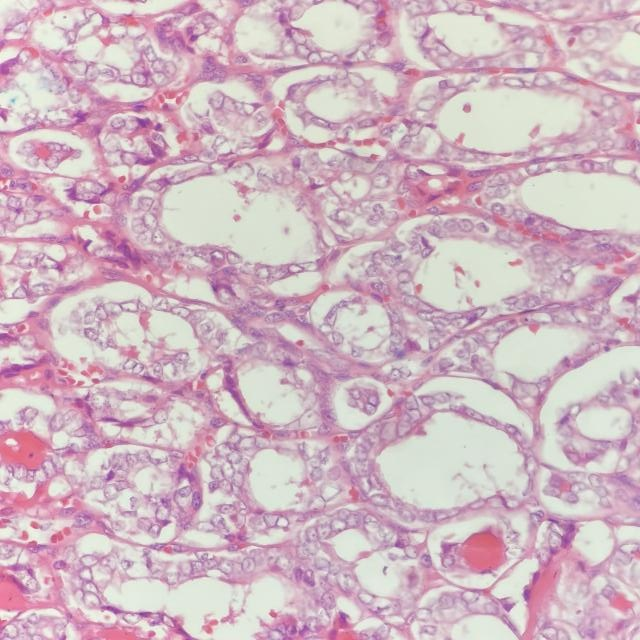TC: (449, 398, 491, 430), (255, 299, 295, 332), (509, 285, 546, 320), (408, 89, 447, 118), (230, 426, 260, 462), (459, 328, 492, 359), (484, 178, 518, 206), (211, 278, 236, 314), (375, 417, 405, 446), (278, 259, 310, 286), (386, 266, 418, 292), (283, 23, 316, 47), (366, 170, 396, 196), (361, 513, 390, 539), (246, 261, 275, 287), (378, 361, 404, 390), (326, 513, 352, 541), (322, 328, 353, 351), (450, 0, 480, 23), (536, 483, 564, 506), (454, 213, 479, 238), (399, 163, 426, 185), (318, 403, 339, 428)
